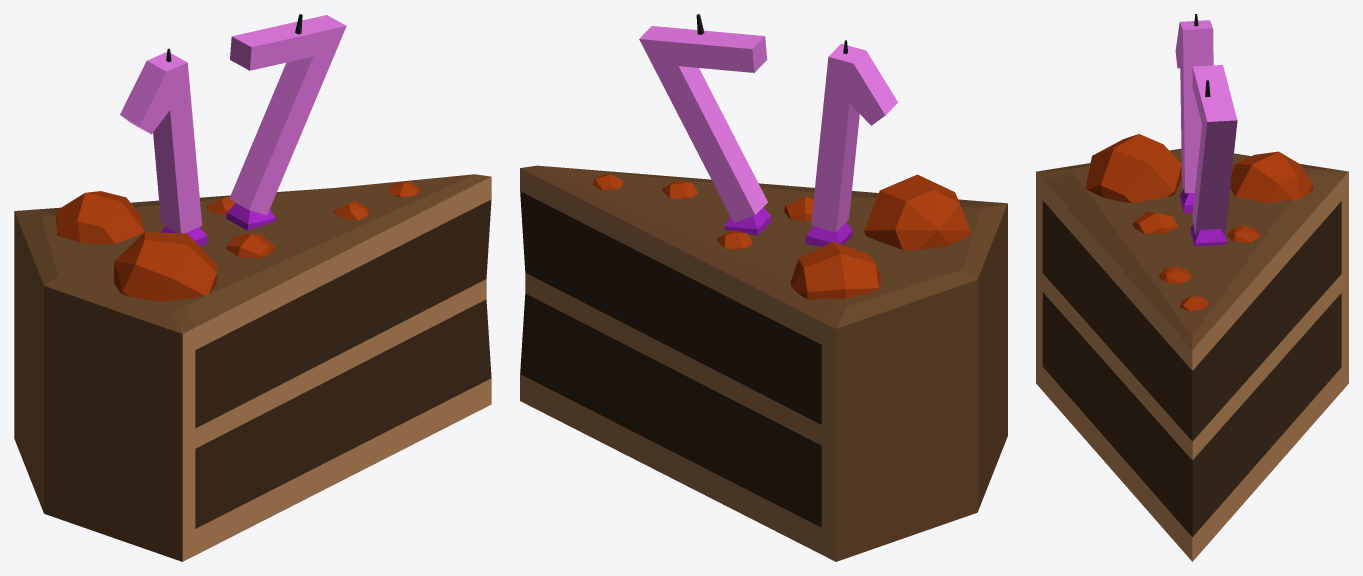
The model's file is DoveCake_3D.glb.
3 views of the same model, side by side, from view 1: azimuth 30°, elevation 25°; view 2: azimuth 150°, elevation 25°; view 3: azimuth 270°, elevation 25° (orthographic). The views are drawn at different scales.
Visible parts, largest first — view 1: cakeSlice (1); view 2: cakeSlice (1); view 3: cakeSlice (1).
Part boxes in pixels (bbox=[...]): cakeSlice (1): bbox=[14, 14, 491, 561]; cakeSlice (1): bbox=[520, 14, 1007, 561]; cakeSlice (1): bbox=[1036, 14, 1348, 561].
Bounding box in the file's own units: 0.2503 × 0.2311 × 0.1629.
1 material, 1 textured.
